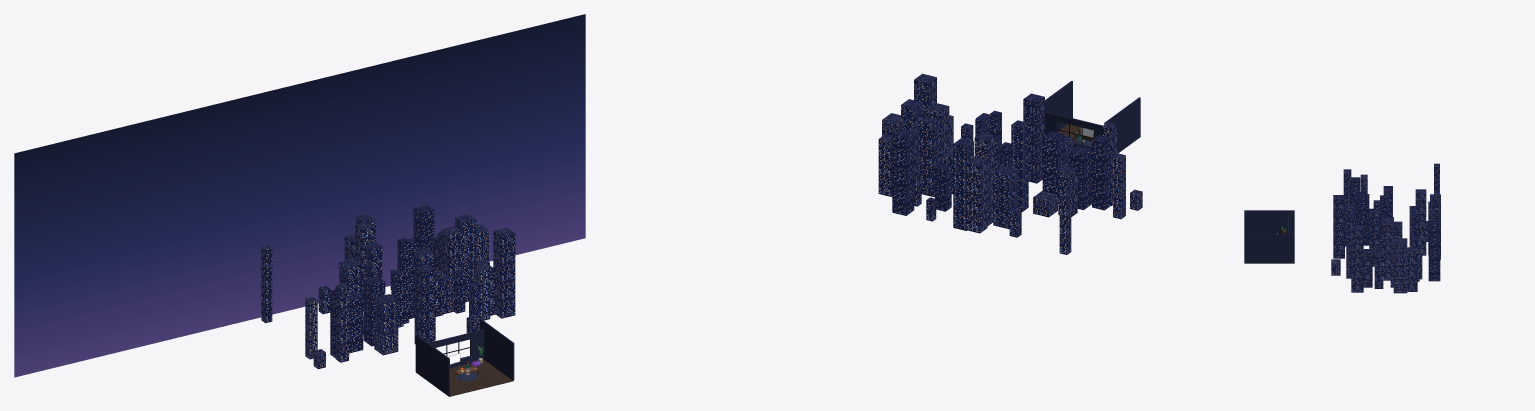
File: studio.glb
3 renders of one model, left to right at view 1: azimuth 30°, elevation 25°; view 2: azimuth 150°, elevation 25°; view 3: azimuth 270°, elevation 25°, orthographic. The views are drawn at different scales.
Bounding box in the file's own units: 80 × 30 × 44.
112 materials, 48 textured.
